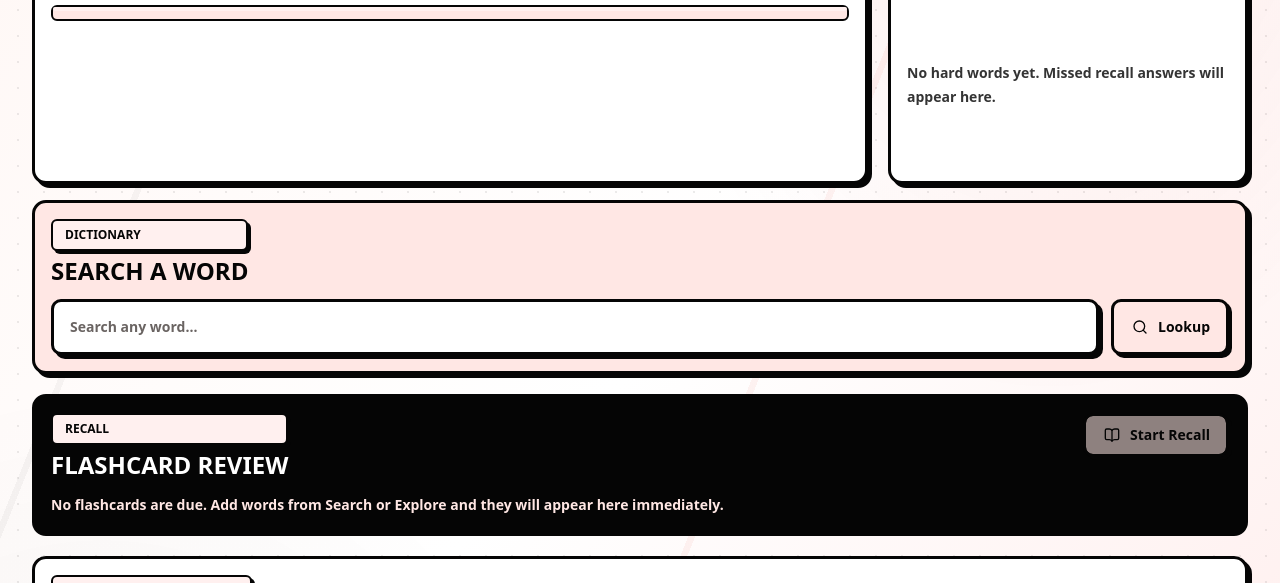
VocabularyDashboard › runs the lookup and the search in parallel
(page scrolled)
Type " gleam " into the search field named "Search vocabulary term". click: {"x": 575, "y": 327}
box: x1=51 y1=299 x2=1099 y2=355
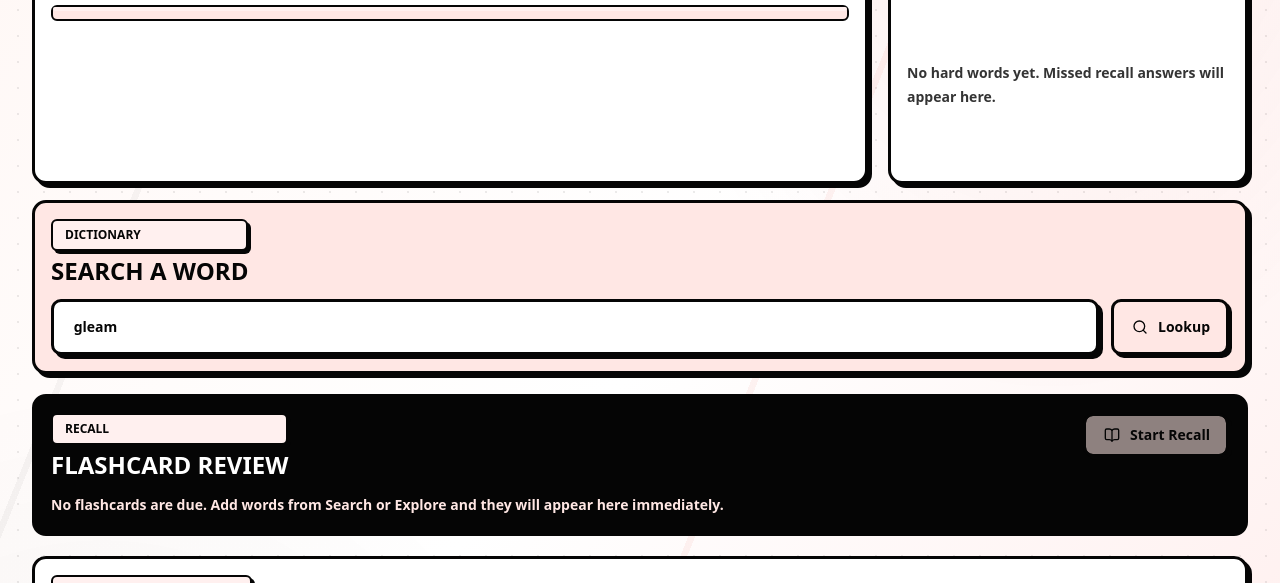
Click the button "Lookup". click: {"x": 1170, "y": 327}
box: x1=1111 y1=299 x2=1229 y2=355
(page scrolled)
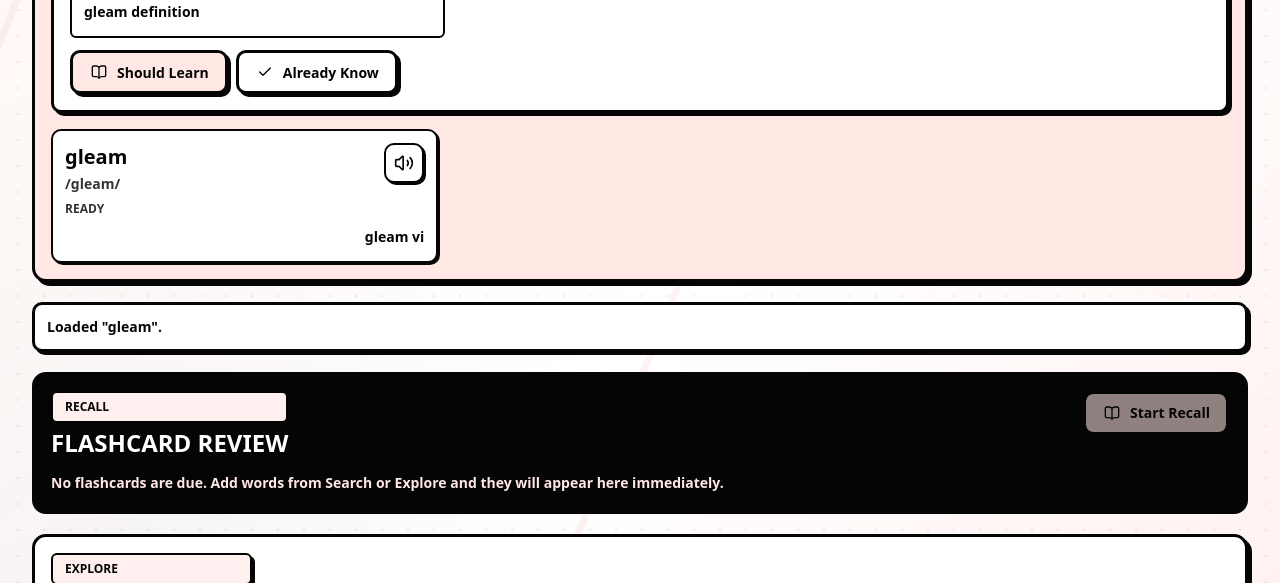
Now the text "Loaded \"gleam\"." is shown, box x1=32 y1=302 x2=1248 y2=352
